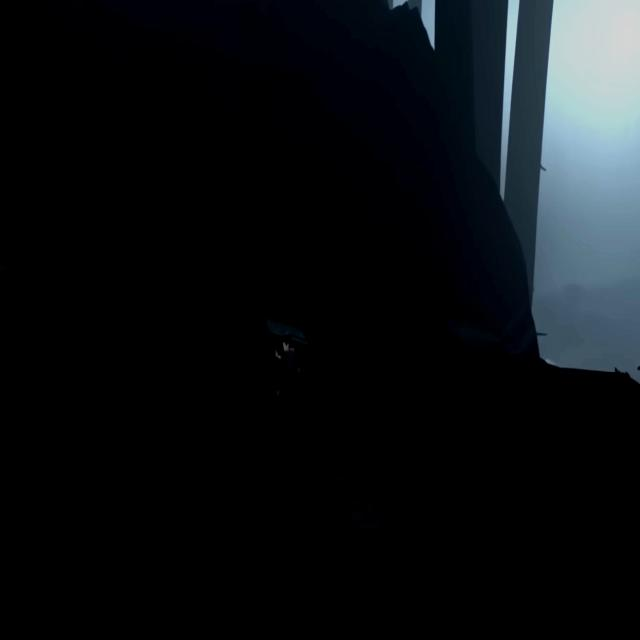boy: (275, 333, 296, 404)
